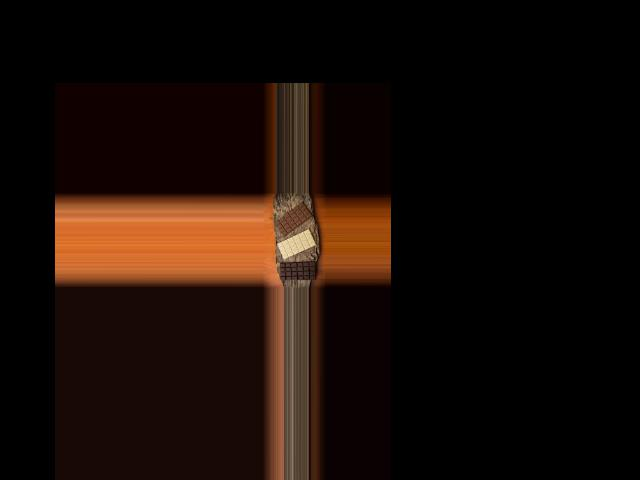chocolate: (279, 261, 316, 280)
